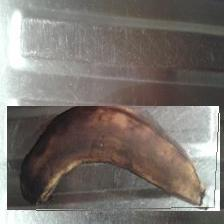Banana Rotten: (8, 107, 221, 212)
